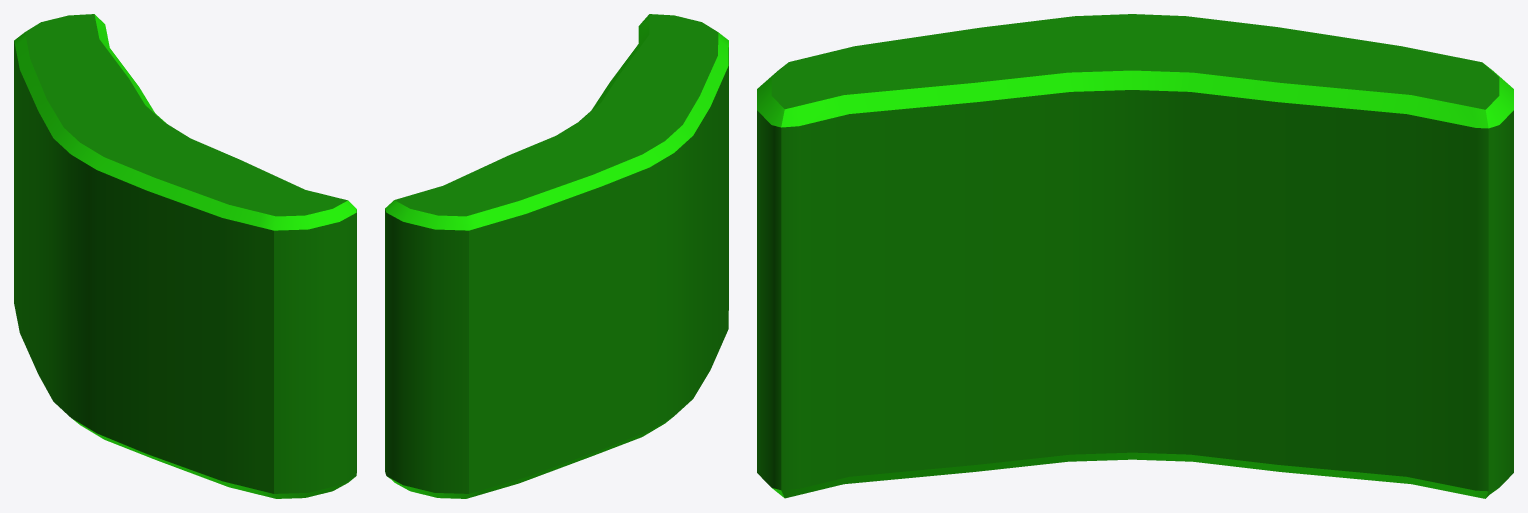
The model's file is Hedge.fbx.
3 views of the same model, side by side, from view 1: azimuth 30°, elevation 25°; view 2: azimuth 150°, elevation 25°; view 3: azimuth 270°, elevation 25° (orthographic). The views are drawn at different scales.
Visible parts, largest first — view 1: Hedge; view 2: Hedge; view 3: Hedge.
Boxes of the visible parts, x1=… form: Hedge: x1=14, y1=14, x2=356, y2=498; Hedge: x1=385, y1=14, x2=728, y2=498; Hedge: x1=757, y1=14, x2=1513, y2=498.
Size of the model in its own units: 533 by 900 by 1586.
